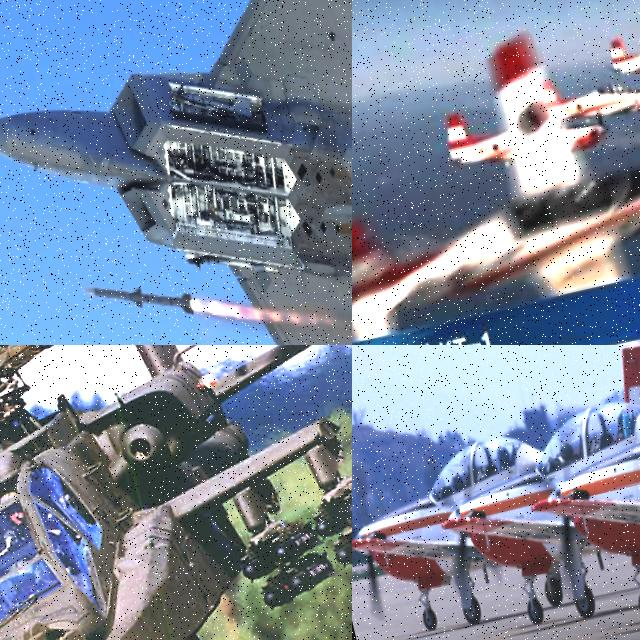Apache: (0, 345, 352, 640)
F22: (0, 0, 352, 345)
KT-1: (352, 0, 640, 345), (409, 345, 640, 639), (352, 407, 581, 640), (520, 345, 640, 640), (432, 76, 616, 190), (517, 56, 640, 139), (602, 18, 640, 96)
